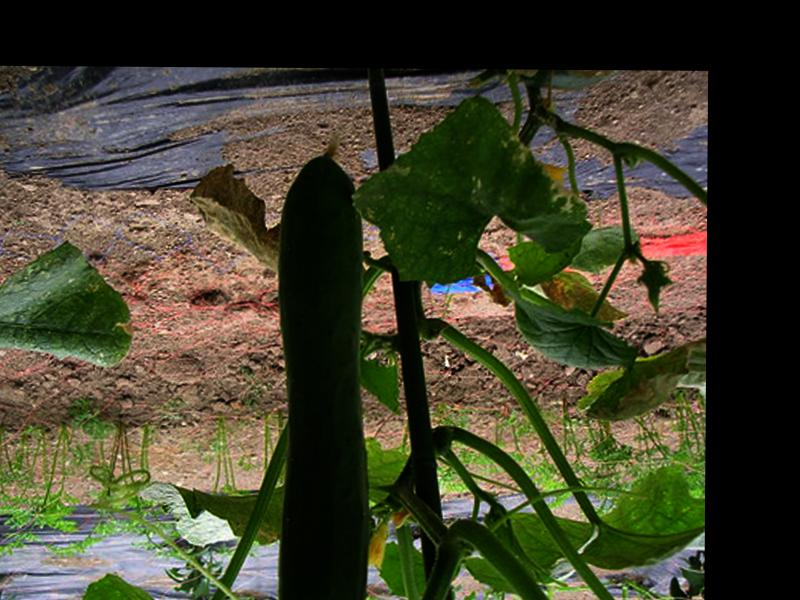Cucumber: (276, 142, 372, 600)
